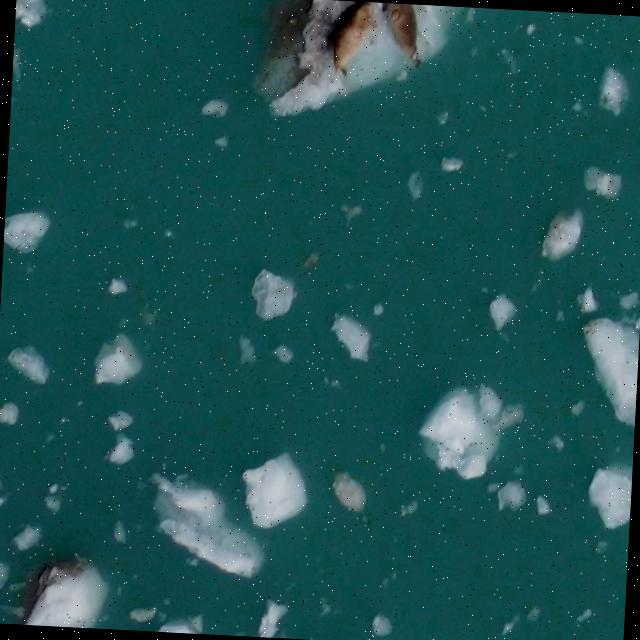seal: (333, 3, 375, 77), (382, 3, 419, 69)
